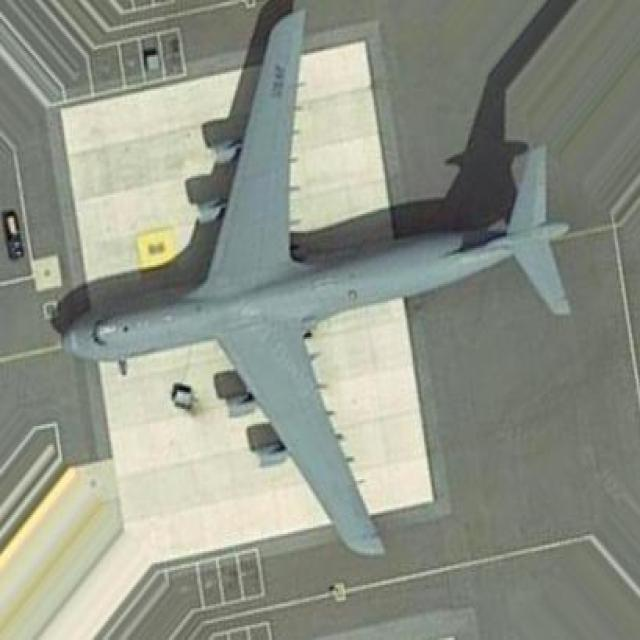C-5_TopDown: (47, 0, 579, 559)
